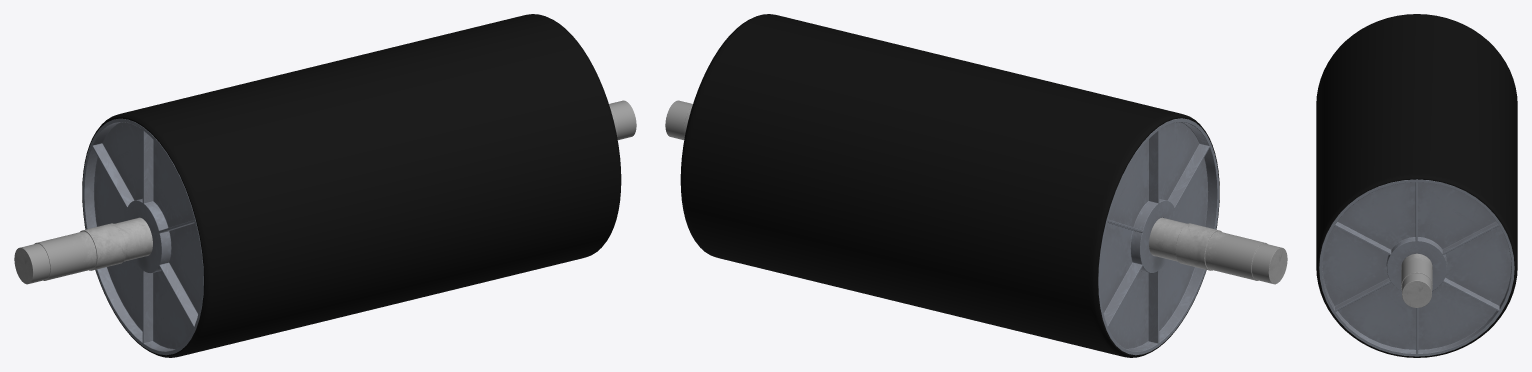
Rendered from Unreal Engine 4.gltf.
3 renders of one model, left to right at view 1: azimuth 30°, elevation 25°; view 2: azimuth 150°, elevation 25°; view 3: azimuth 270°, elevation 25°, orthographic. The views are drawn at different scales.
Parts seen in each view (by area): view 1: Cylinder.001, Circle_Circle.001, Cylinder; view 2: Cylinder.001, Circle_Circle.001, Cylinder; view 3: Cylinder.001, Circle_Circle.001, Cylinder.
Boxes of the visible parts, bbox=[...] form: Cylinder.001: bbox=[82, 14, 621, 357]; Circle_Circle.001: bbox=[82, 118, 203, 355]; Cylinder: bbox=[14, 100, 636, 284]; Cylinder.001: bbox=[680, 14, 1219, 357]; Circle_Circle.001: bbox=[1098, 118, 1219, 355]; Cylinder: bbox=[665, 100, 1287, 284]; Cylinder.001: bbox=[1316, 14, 1517, 357]; Circle_Circle.001: bbox=[1319, 179, 1514, 356]; Cylinder: bbox=[1401, 253, 1432, 307].
Bounding box in the file's own units: 8.69 × 3.12 × 3.12.
Materials: 1 (1 with a texture image).
